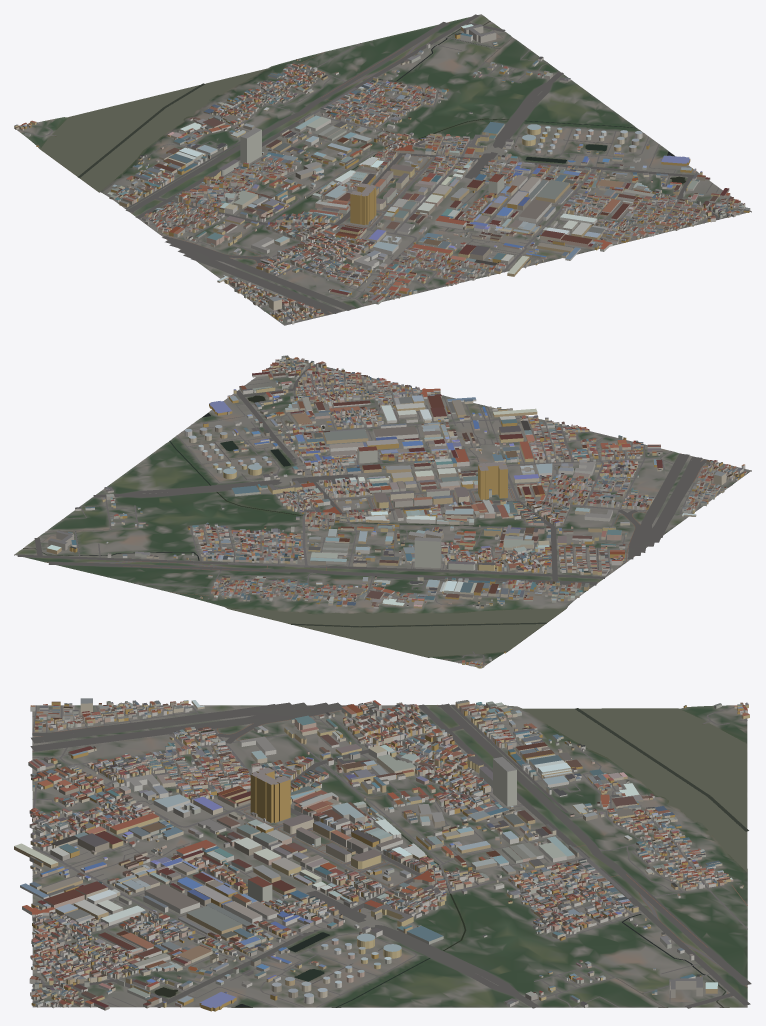
3 views of the same model, one above another, from view 1: azimuth 30°, elevation 25°; view 2: azimuth 150°, elevation 25°; view 3: azimuth 270°, elevation 25° (orthographic). The views are drawn at different scales.
Visible parts, largest first — view 1: buildings, ground, roads, water; view 2: buildings, ground, roads, water; view 3: buildings, ground, roads, water.
Part boxes in pixels (<box>): buildings: <box>14,24,750,324</box>; ground: <box>14,14,751,325</box>; roads: <box>17,14,744,324</box>; water: <box>40,21,685,308</box>; buildings: <box>46,355,746,668</box>; ground: <box>14,358,751,667</box>; roads: <box>17,358,750,665</box>; water: <box>23,395,680,657</box>; buildings: <box>14,698,749,1011</box>; ground: <box>32,704,747,1007</box>; roads: <box>30,702,751,1008</box>; water: <box>32,708,748,1007</box>.
Size of the model in its own units: 1435 by 92.62 by 1447.
